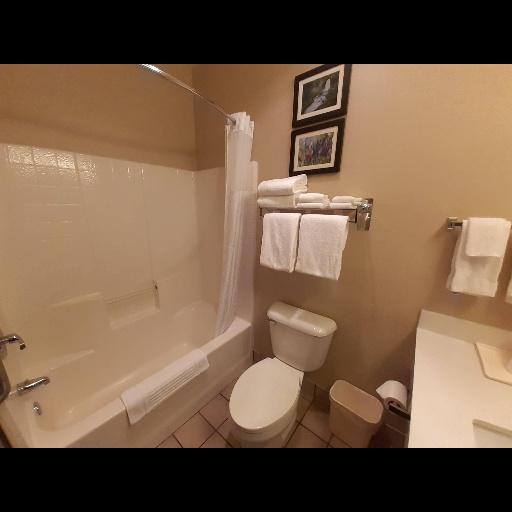clean_bathtub: (9, 293, 255, 451)
clean_toilet: (228, 299, 336, 446)
folded_towel: (263, 214, 351, 282), (442, 216, 512, 298), (256, 175, 362, 213)
